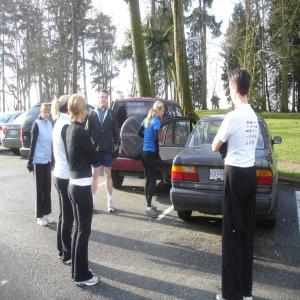Vehicle-registration-plate: (210, 170, 225, 181)
